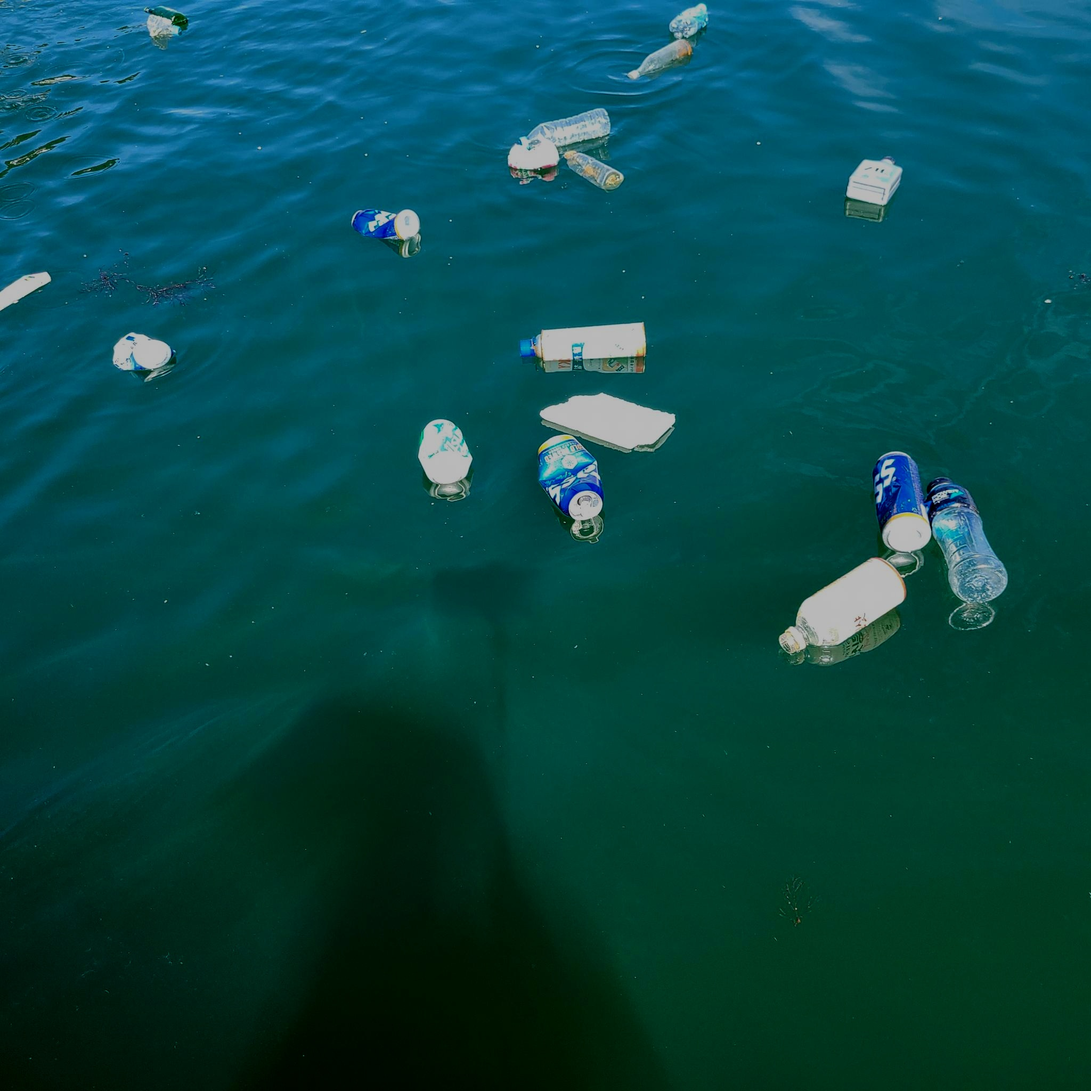sampah_terapung: (779, 558, 908, 655), (925, 477, 1010, 605), (540, 393, 676, 450), (873, 451, 932, 553), (537, 434, 605, 521), (520, 322, 647, 361), (519, 108, 612, 148), (418, 419, 473, 485), (845, 156, 903, 206), (627, 39, 693, 79), (564, 151, 625, 191), (113, 332, 173, 371), (351, 209, 421, 241), (508, 141, 560, 170), (669, 4, 708, 39), (144, 6, 188, 28), (147, 15, 183, 38)
